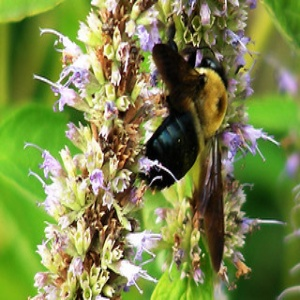bee: (138, 41, 248, 279)
